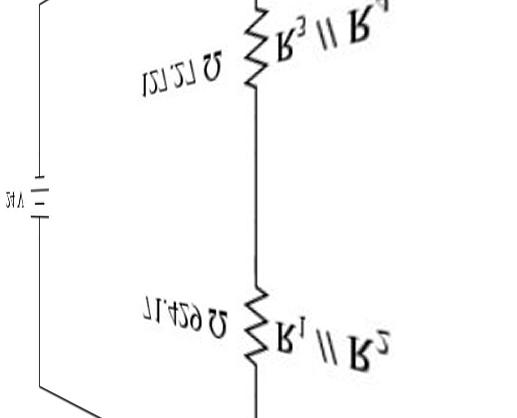resistor: (237, 264, 270, 370), (234, 1, 273, 88)
